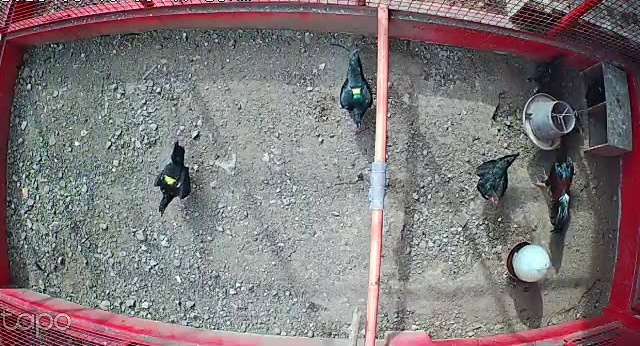Chicken: (152, 140, 198, 217), (333, 45, 372, 133), (469, 151, 523, 209), (524, 51, 574, 102)
Rooster: (530, 135, 584, 233)
Saddle_Color_Yellow: (158, 173, 182, 188)
Saddle_Color_YellowGreen: (349, 87, 362, 100)
